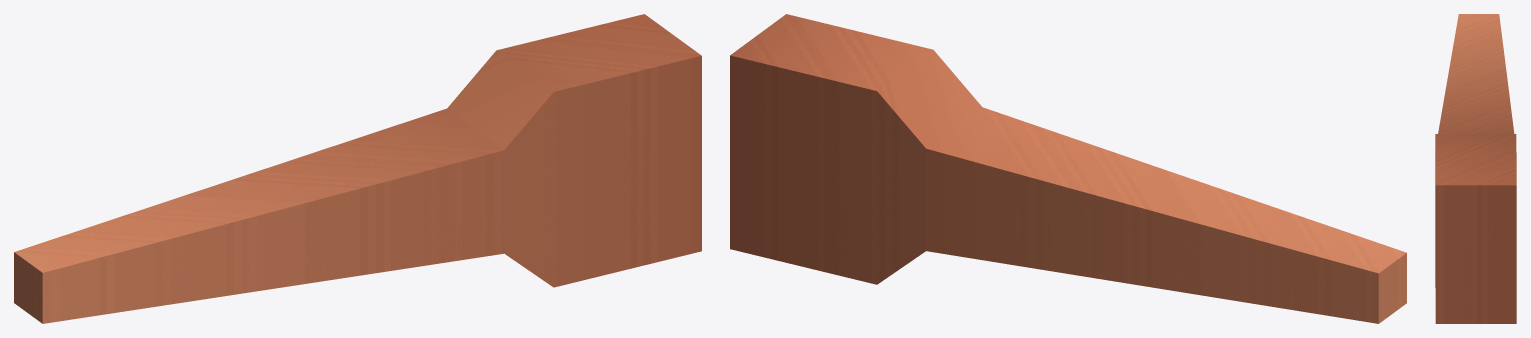
Rendered from oar.glb.
The picture shows the model from 3 angles, left to right: view 1: azimuth 30°, elevation 25°; view 2: azimuth 150°, elevation 25°; view 3: azimuth 270°, elevation 25°; orthographic projection. The views are drawn at different scales.
Parts seen in each view (by area): view 1: paddle; view 2: paddle; view 3: paddle.
Part boxes in pixels (<box>): paddle: <box>14,14,701,323</box>; paddle: <box>730,14,1406,323</box>; paddle: <box>1435,14,1516,323</box>.
Size of the model in its own units: 1.04 by 0.3024 by 0.1607.
Materials: 1 (1 with a texture image).
